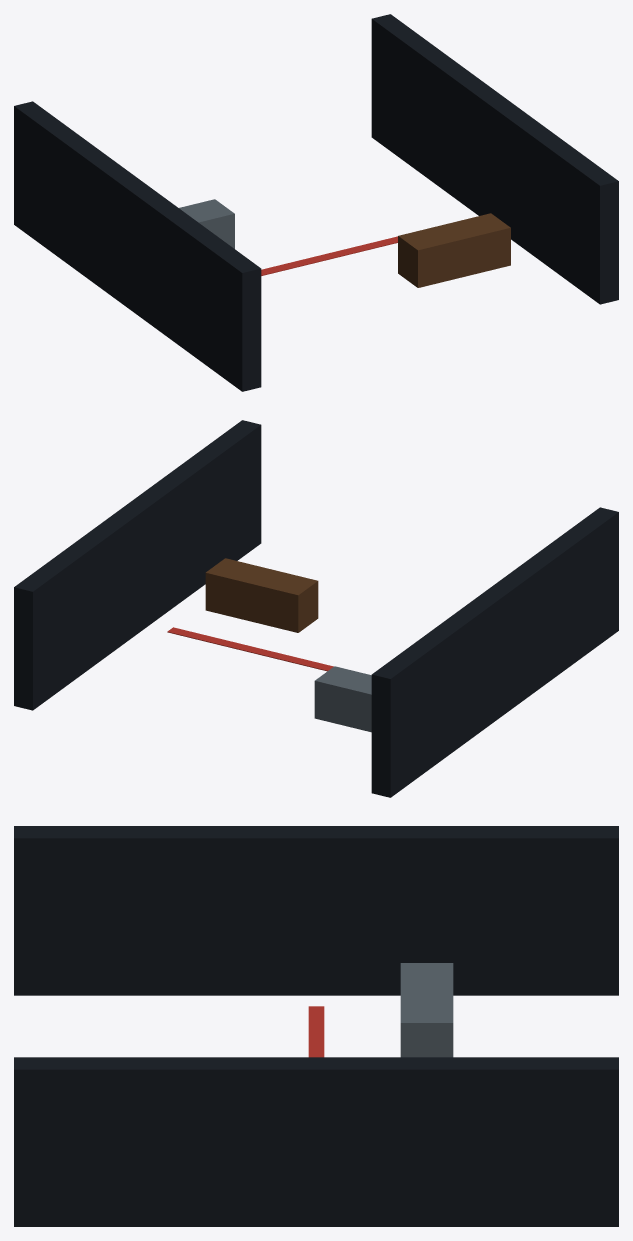
The model's file is module.ambush_crossfire.glb.
3 views of the same model, one above another, from view 1: azimuth 30°, elevation 25°; view 2: azimuth 150°, elevation 25°; view 3: azimuth 270°, elevation 25° (orthographic). The views are drawn at different scales.
Parts seen in each view (by area): view 1: left_wall, right_wall, right_cover, left_cover, danger_cross; view 2: left_wall, right_wall, right_cover, left_cover, danger_cross; view 3: right_wall, left_wall, left_cover, danger_cross.
Part boxes in pixels (left/top/right/bottom): left_wall: left=14, top=101, right=261, bottom=391; right_wall: left=371, top=14, right=618, bottom=304; right_cover: left=398, top=213, right=510, bottom=287; left_cover: left=179, top=199, right=234, bottom=248; danger_cross: left=261, top=236, right=397, bottom=275; left_wall: left=371, top=507, right=618, bottom=797; right_wall: left=14, top=420, right=261, bottom=710; right_cover: left=205, top=558, right=318, bottom=632; left_cover: left=314, top=666, right=371, bottom=732; danger_cross: left=167, top=627, right=333, bottom=671; right_wall: left=14, top=1057, right=618, bottom=1226; left_wall: left=14, top=826, right=618, bottom=995; left_cover: left=400, top=963, right=453, bottom=1057; danger_cross: left=308, top=1006, right=324, bottom=1057.
Bounding box in the file's own units: 10.95 × 3.3 × 11.5.
